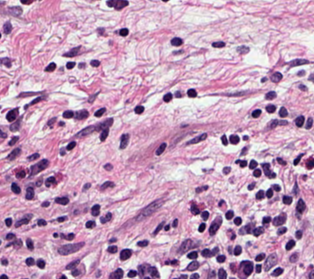nucleus: (136, 199, 163, 220), (58, 242, 84, 254), (30, 159, 48, 175), (186, 133, 206, 144), (76, 126, 95, 137), (209, 217, 221, 234), (96, 118, 112, 130), (265, 254, 276, 270), (7, 148, 20, 160), (179, 239, 191, 252), (241, 261, 252, 275), (64, 46, 79, 56), (6, 108, 17, 121), (138, 264, 149, 277), (15, 216, 29, 226), (65, 259, 79, 269), (273, 214, 285, 225), (109, 268, 122, 278), (100, 212, 111, 223), (75, 110, 88, 119), (120, 134, 128, 148), (100, 181, 114, 189), (155, 143, 165, 154), (120, 249, 131, 259), (149, 266, 159, 277), (153, 222, 162, 234), (271, 72, 281, 82), (10, 120, 19, 131), (187, 261, 198, 270), (100, 128, 108, 140), (55, 197, 68, 204), (11, 183, 20, 193), (253, 227, 263, 236), (171, 37, 182, 45), (94, 108, 105, 116), (91, 204, 99, 215), (30, 97, 42, 104), (26, 187, 33, 199), (1, 57, 10, 66), (269, 119, 278, 128), (9, 136, 18, 145), (66, 141, 75, 150), (45, 177, 54, 186), (45, 63, 55, 71), (265, 91, 275, 99), (218, 268, 226, 278), (272, 268, 282, 276), (237, 46, 248, 53), (27, 153, 38, 160), (26, 238, 33, 249), (212, 41, 224, 47), (187, 89, 196, 97), (163, 93, 172, 101), (266, 104, 275, 112), (134, 105, 143, 113), (230, 135, 239, 143), (256, 190, 264, 199), (225, 210, 233, 219), (255, 253, 264, 261), (25, 257, 34, 265), (63, 111, 73, 118), (85, 221, 95, 228), (187, 251, 197, 258), (137, 240, 148, 246), (252, 109, 260, 117), (249, 160, 257, 168), (262, 216, 270, 224), (210, 247, 218, 255), (16, 170, 25, 177), (191, 205, 198, 214), (277, 227, 286, 234), (234, 246, 241, 255), (37, 259, 44, 268), (104, 163, 112, 170), (198, 223, 205, 231), (13, 240, 21, 247), (202, 249, 210, 256), (128, 270, 136, 277), (90, 60, 99, 66), (221, 135, 227, 144), (37, 219, 46, 225), (65, 233, 74, 239), (107, 246, 116, 252), (48, 118, 55, 125), (253, 169, 260, 176), (234, 217, 241, 224), (217, 255, 224, 262), (66, 62, 74, 68), (277, 158, 285, 164), (266, 189, 272, 197), (202, 211, 208, 219), (5, 218, 11, 226), (6, 233, 14, 239), (57, 216, 66, 221), (239, 160, 246, 166), (262, 163, 269, 169), (83, 183, 90, 189), (72, 269, 79, 275), (41, 201, 49, 206), (256, 264, 261, 272), (223, 167, 229, 173), (248, 183, 254, 189), (273, 185, 280, 190), (175, 91, 180, 97), (269, 172, 275, 177), (1, 259, 7, 264), (173, 219, 177, 226), (191, 274, 198, 278), (241, 148, 246, 153), (164, 225, 169, 230), (1, 131, 5, 137), (109, 238, 115, 242), (170, 260, 177, 263), (79, 63, 84, 67), (209, 272, 213, 277), (53, 233, 57, 237), (180, 275, 186, 277)
